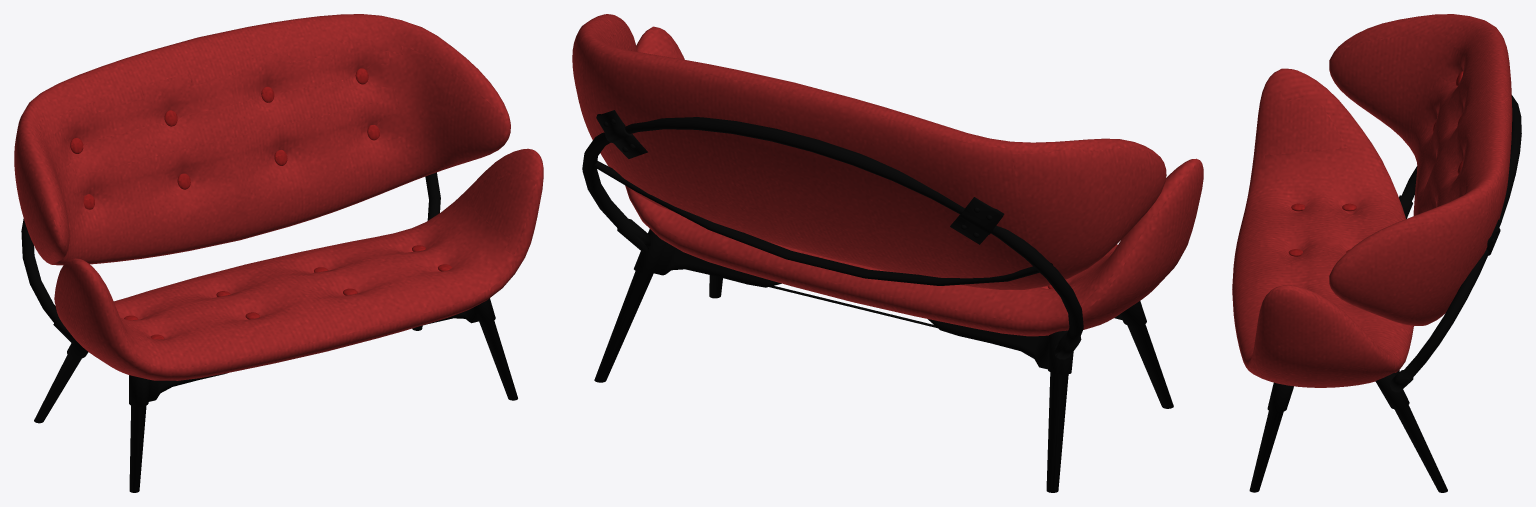
Rendered from mini-canapea.be7917a584.glb.
3 renders of one model, left to right at view 1: azimuth 30°, elevation 25°; view 2: azimuth 150°, elevation 25°; view 3: azimuth 270°, elevation 25°, orthographic. The views are drawn at different scales.
Parts seen in each view (by area): view 1: StaticMesh_minisofaefni_0, StaticMesh_minisofafeet_0, StaticMesh_minisofahnappar_0; view 2: StaticMesh_minisofaefni_0, StaticMesh_minisofafeet_0; view 3: StaticMesh_minisofaefni_0, StaticMesh_minisofafeet_0, StaticMesh_minisofahnappar_0.
Part boxes in pixels (x1,y1,x2,y2): StaticMesh_minisofaefni_0: [14, 14, 543, 380]; StaticMesh_minisofafeet_0: [21, 172, 517, 492]; StaticMesh_minisofahnappar_0: [70, 68, 451, 339]; StaticMesh_minisofaefni_0: [572, 14, 1203, 336]; StaticMesh_minisofafeet_0: [582, 110, 1173, 492]; StaticMesh_minisofaefni_0: [1232, 14, 1512, 387]; StaticMesh_minisofafeet_0: [1249, 95, 1521, 492]; StaticMesh_minisofahnappar_0: [1288, 71, 1463, 256].
Size of the model in its own units: 1.21 by 0.7829 by 0.6629.
3 materials, 2 textured.
